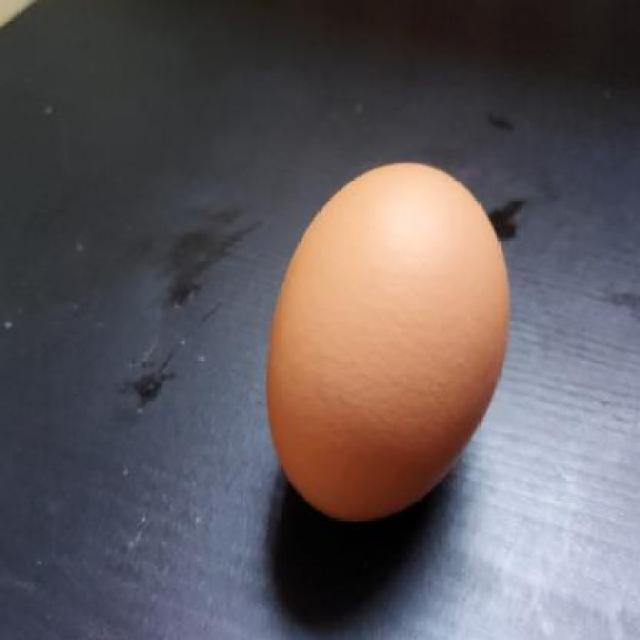biodegradable: (264, 162, 514, 524)
